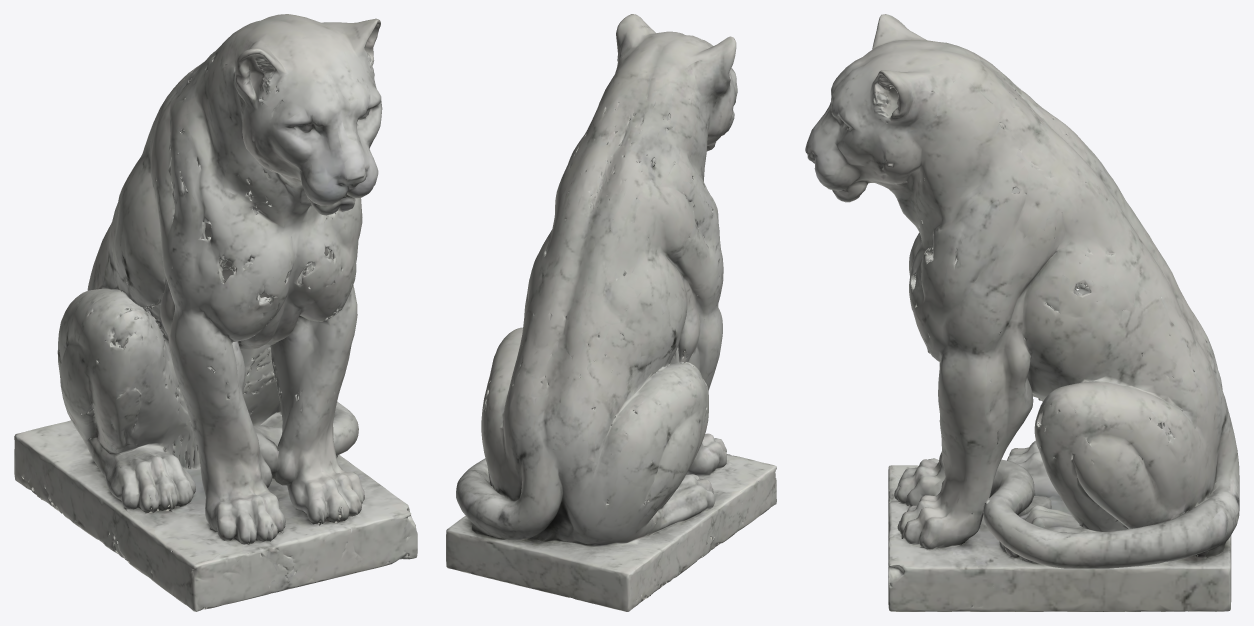
File: sample_2026-09-01T054937.765.glb
3 views of the same model, side by side, from view 1: azimuth 30°, elevation 25°; view 2: azimuth 150°, elevation 25°; view 3: azimuth 270°, elevation 25° (orthographic). The views are drawn at different scales.
Parts seen in each view (by area): view 1: world; view 2: world; view 3: world.
Boxes of the visible parts, bbox=[...] form: world: bbox=[14, 14, 417, 611]; world: bbox=[446, 14, 776, 611]; world: bbox=[805, 14, 1239, 611].
Size of the model in its own units: 0.484 by 1 by 0.7549.
Materials: 1 (1 with a texture image).
